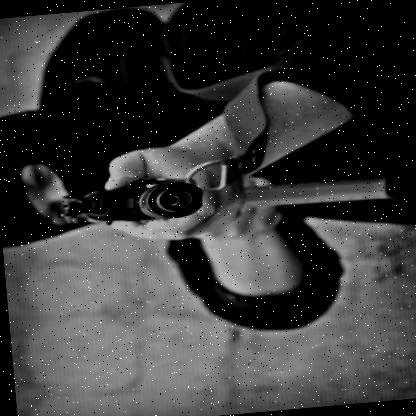rifle: (60, 144, 416, 243)
